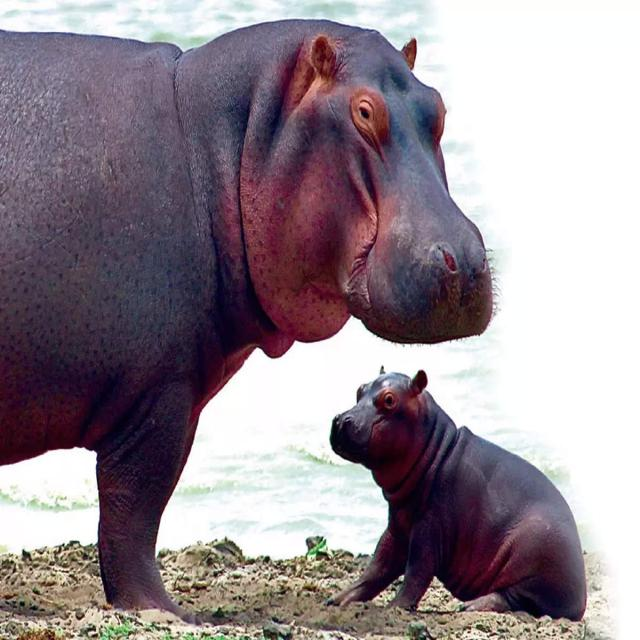Hippopotamus: (0, 20, 493, 600), (334, 364, 591, 615)
